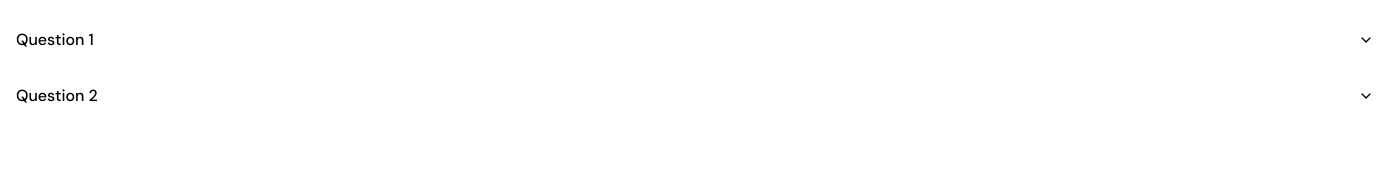
Accordion Component › supports single collapsible mode
// Open first item
Click the button with test id "accordion-trigger-single-1" at (55, 40), box [12,12,1378,68]
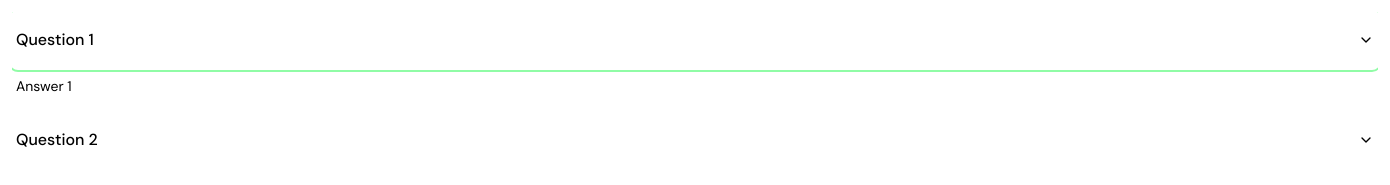
// Open second item (should close first)
Click the button with test id "accordion-trigger-single-2" at (57, 140), box [12,112,1378,168]
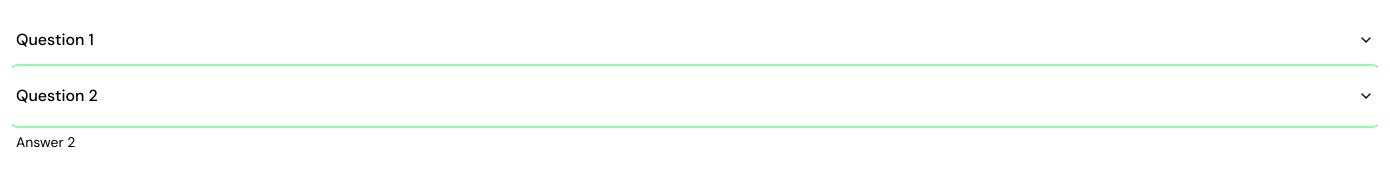
expect the button with test id "accordion-trigger-single-1" has attribute data-state="closed": met, box [12,12,1378,68]
expect the button with test id "accordion-trigger-single-2" has attribute data-state="open": met, box [12,68,1378,124]
